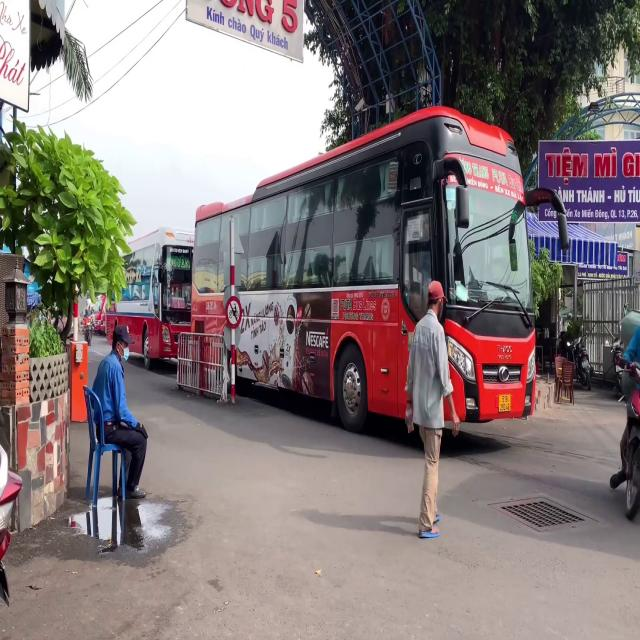bien_vang: (499, 394, 511, 412)
